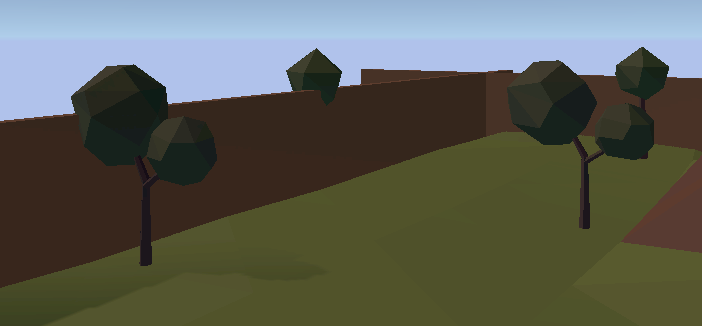tree: (71, 64, 218, 268), (507, 60, 655, 230), (283, 47, 355, 105), (615, 47, 673, 114)
